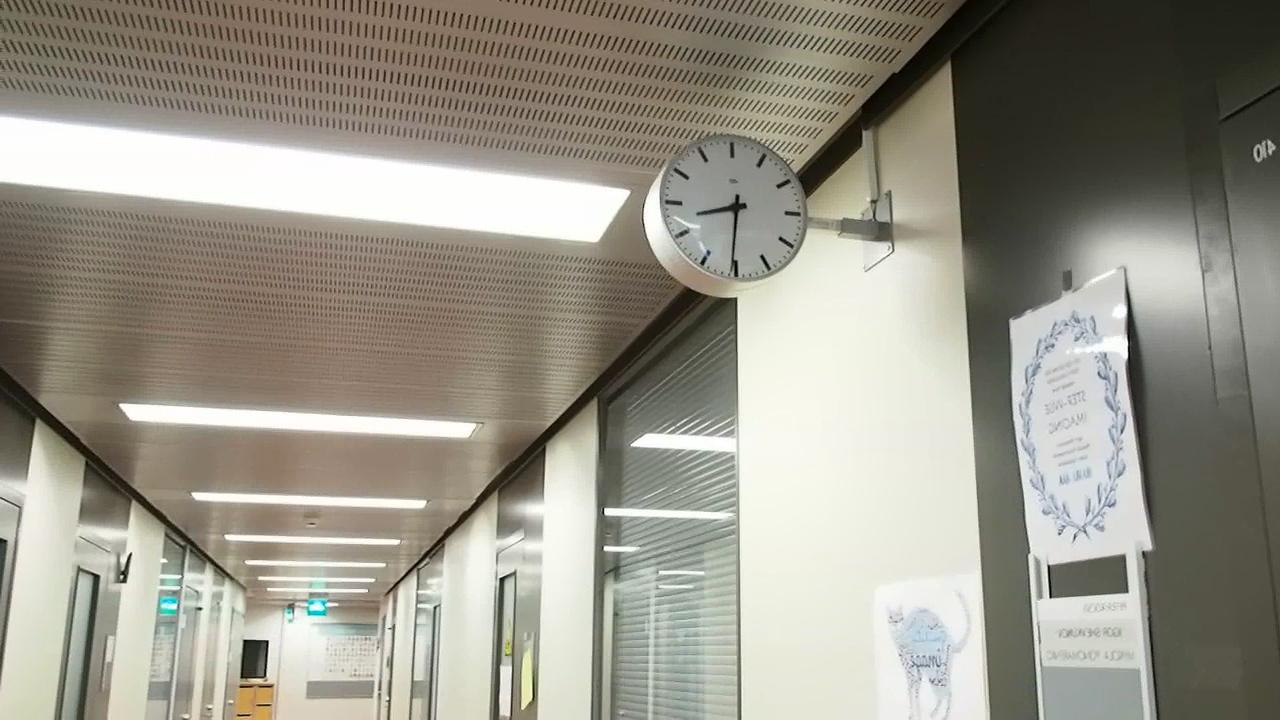clock: (646, 129, 814, 289)
